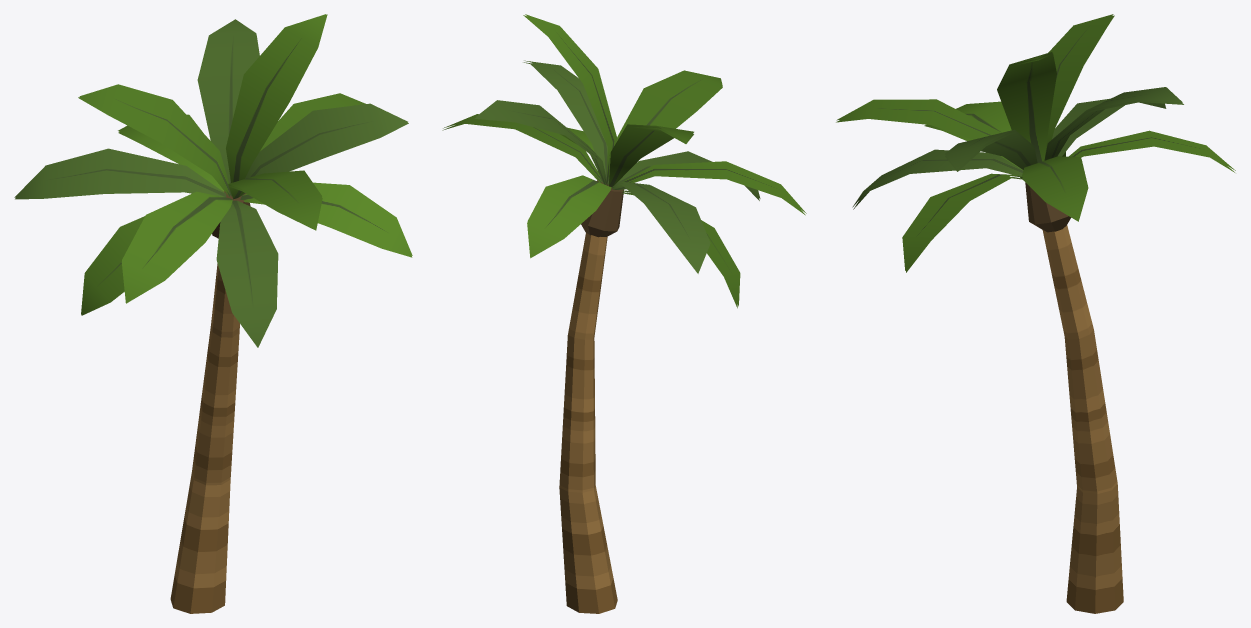
File: Desert Tree 02.fbx
3 renders of one model, left to right at view 1: azimuth 30°, elevation 25°; view 2: azimuth 150°, elevation 25°; view 3: azimuth 270°, elevation 25°, orthographic. The views are drawn at different scales.
Parts seen in each view (by area): view 1: Desert_Tree_02; view 2: Desert_Tree_02; view 3: Desert_Tree_02.
Part boxes in pixels (bbox=[...]): Desert_Tree_02: bbox=[14, 14, 412, 613]; Desert_Tree_02: bbox=[442, 14, 806, 613]; Desert_Tree_02: bbox=[836, 14, 1235, 613].
Size of the model in its own units: 423 by 737 by 452.
